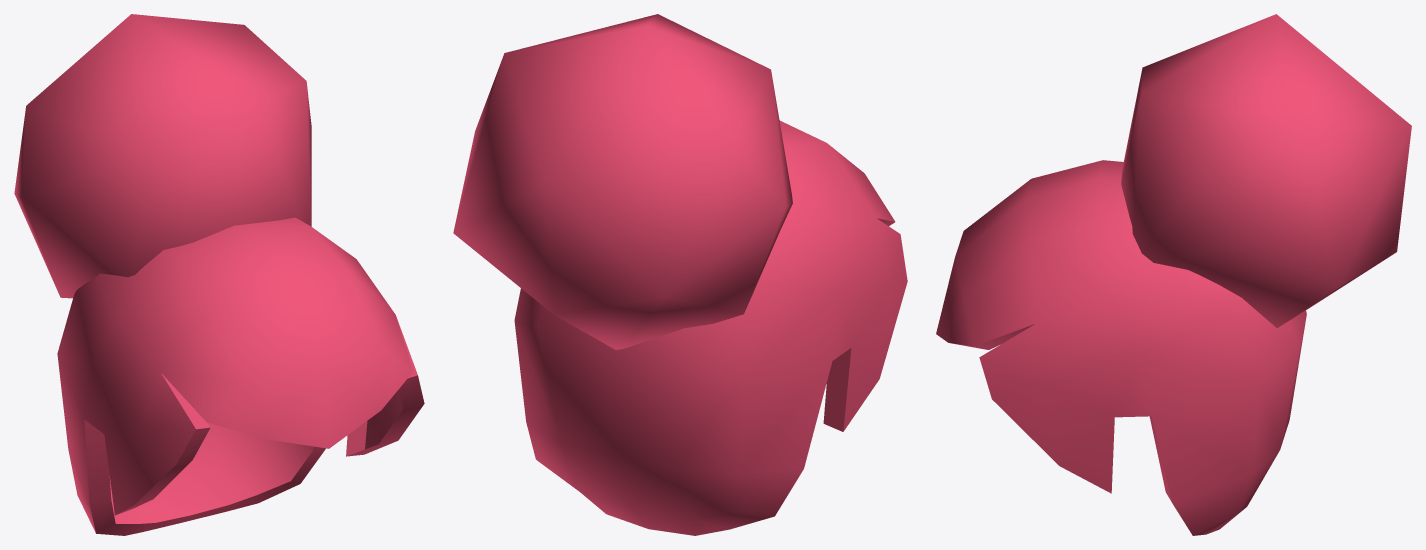
The model's file is Hair_3.FBX.
3 renders of one model, left to right at view 1: azimuth 30°, elevation 25°; view 2: azimuth 150°, elevation 25°; view 3: azimuth 270°, elevation 25°, orthographic. The views are drawn at different scales.
Visible parts, largest first — view 1: Hair_3; view 2: Hair_3; view 3: Hair_3.
Boxes of the visible parts, <box> form: Hair_3: <box>14,14,424,535</box>; Hair_3: <box>453,14,907,535</box>; Hair_3: <box>936,14,1411,535</box>.
Bounding box in the file's own units: 0.1882 × 0.3064 × 0.2719.
